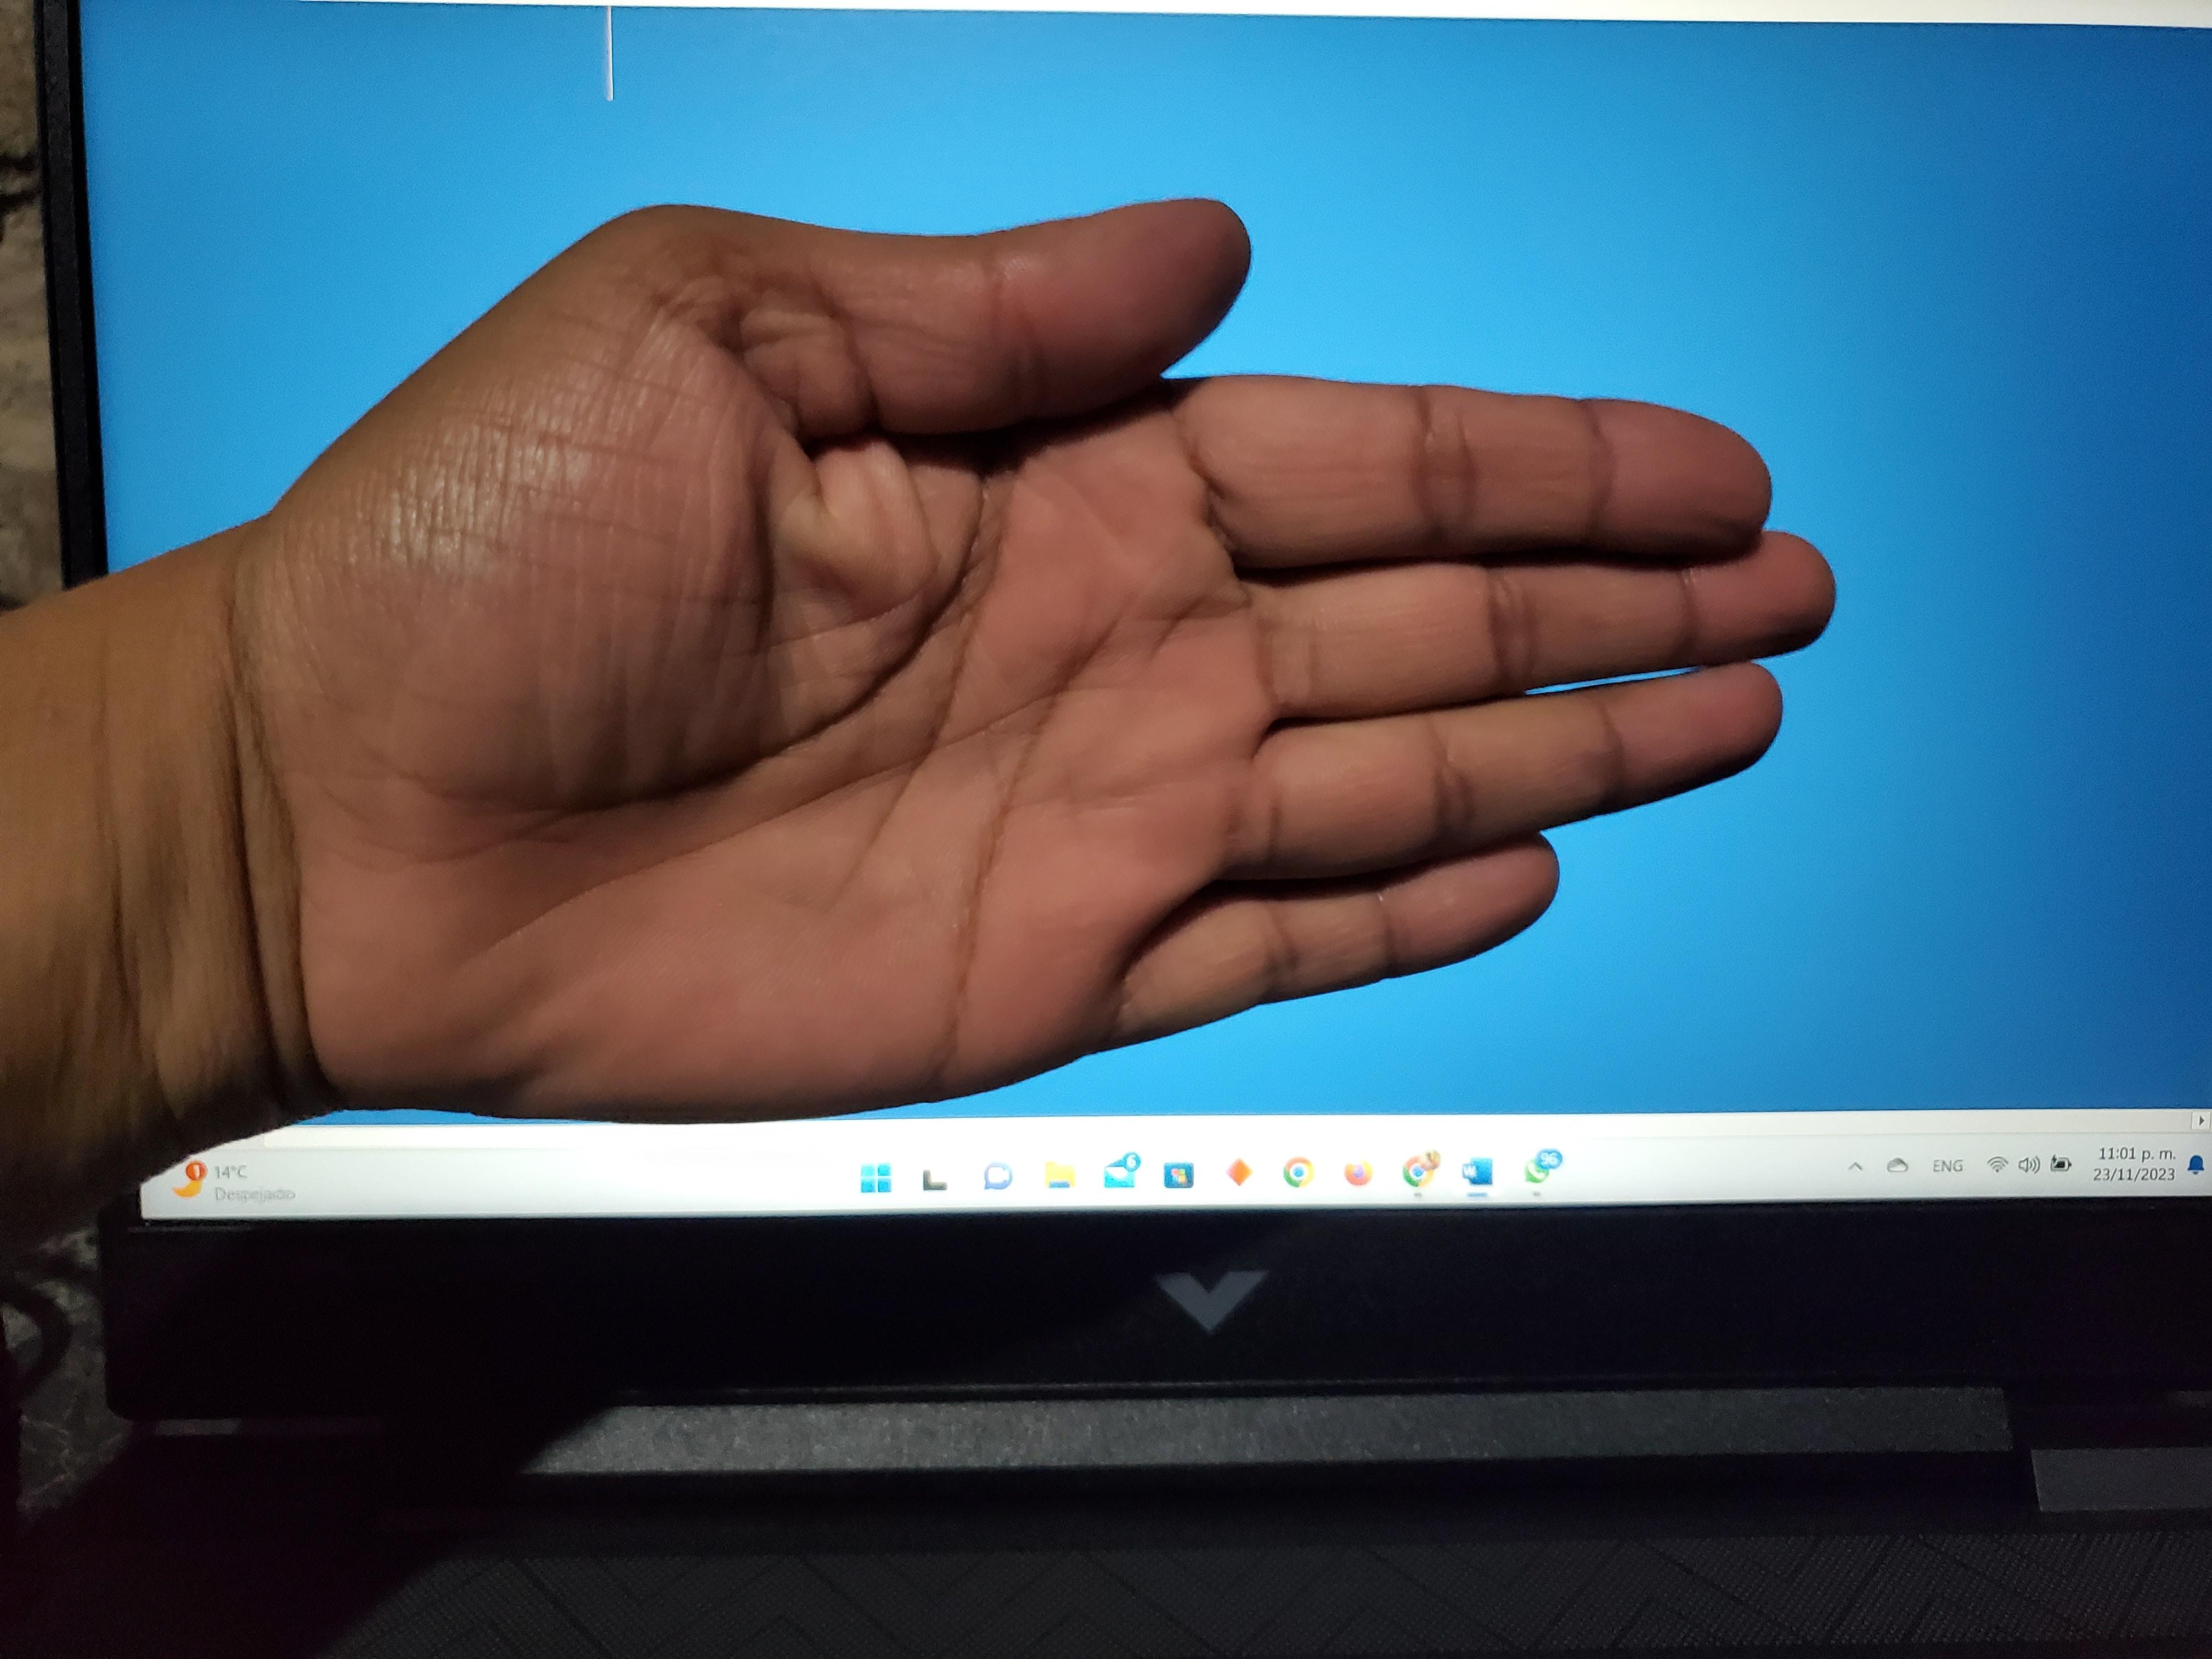Paper: (1, 50, 1918, 1316)
